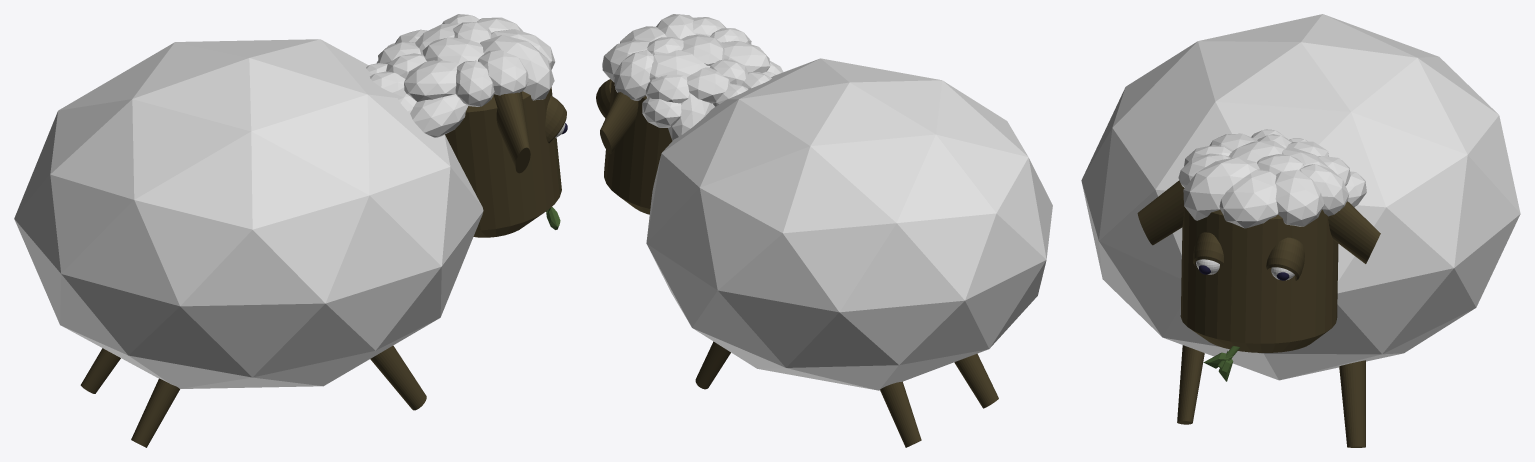
Rendered from moutonGwen5.glb.
3 views of the same model, side by side, from view 1: azimuth 30°, elevation 25°; view 2: azimuth 150°, elevation 25°; view 3: azimuth 270°, elevation 25° (orthographic). The views are drawn at different scales.
Visible parts, largest first — view 1: Icosphere, Cylinder, Cylinder.001, Icosphere.003, Icosphere.011, Icosphere.017, Icosphere.002, Cylinder.004, Cylinder.007, Icosphere.007, Icosphere.009, Cylinder.006 (+6 smaller); view 2: Icosphere, Cylinder, Icosphere.001, Cylinder.006, Cylinder.002, Cylinder.007, Icosphere.016, Icosphere.010, Icosphere.011, Icosphere.006, Icosphere.009, Icosphere.013 (+8 smaller); view 3: Icosphere, Cylinder, Icosphere.004, Icosphere.003, Icosphere.005, Cylinder.005, Cylinder.001, Cylinder.002, Cylinder.004, Icosphere.001, Torus.001, Icosphere.009 (+6 smaller).
Part boxes in pixels (<box>): Icosphere: <box>14,39,483,388</box>; Cylinder: <box>445,87,561,237</box>; Cylinder.001: <box>493,92,530,173</box>; Icosphere.003: <box>480,35,554,100</box>; Icosphere.011: <box>404,60,459,101</box>; Icosphere.017: <box>410,94,467,137</box>; Icosphere.002: <box>478,50,528,95</box>; Cylinder.004: <box>370,345,426,410</box>; Cylinder.007: <box>131,378,179,447</box>; Icosphere.007: <box>455,60,494,106</box>; Icosphere.009: <box>422,37,483,64</box>; Cylinder.006: <box>80,348,120,393</box>; Icosphere: <box>646,58,1052,390</box>; Cylinder: <box>604,80,672,214</box>; Icosphere.001: <box>614,50,653,100</box>; Cylinder.006: <box>880,381,921,447</box>; Cylinder.002: <box>600,92,638,154</box>; Cylinder.007: <box>954,353,998,408</box>; Icosphere.016: <box>649,50,710,80</box>; Icosphere.010: <box>687,67,730,103</box>; Icosphere.011: <box>721,41,770,72</box>; Icosphere.006: <box>645,74,689,103</box>; Icosphere.009: <box>681,34,724,65</box>; Icosphere.013: <box>668,93,711,140</box>; Icosphere: <box>1081,14,1520,380</box>; Cylinder: <box>1180,207,1338,352</box>; Icosphere.004: <box>1219,169,1278,228</box>; Icosphere.003: <box>1183,157,1259,220</box>; Icosphere.005: <box>1275,169,1323,226</box>; Cylinder.005: <box>1339,360,1365,447</box>; Cylinder.001: <box>1137,180,1184,245</box>; Cylinder.002: <box>1328,201,1380,263</box>; Cylinder.004: <box>1177,345,1204,424</box>; Icosphere.001: <box>1299,164,1348,216</box>; Torus.001: <box>1266,237,1304,280</box>; Icosphere.009: <box>1228,141,1286,162</box>.
Size of the model in its own units: 3.08 by 2.09 by 2.42.
